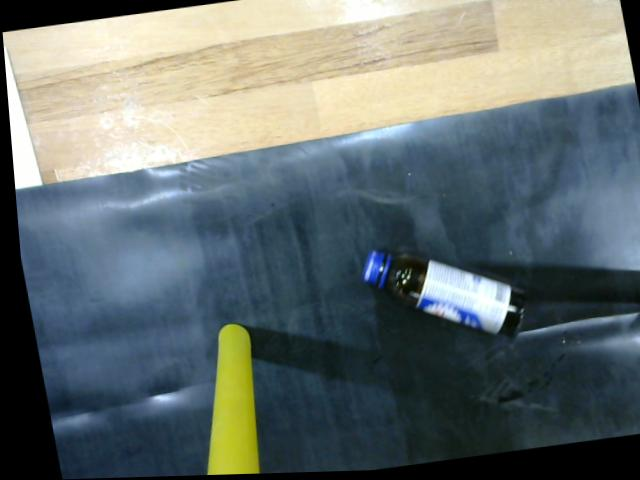glass: (348, 247, 530, 355)
